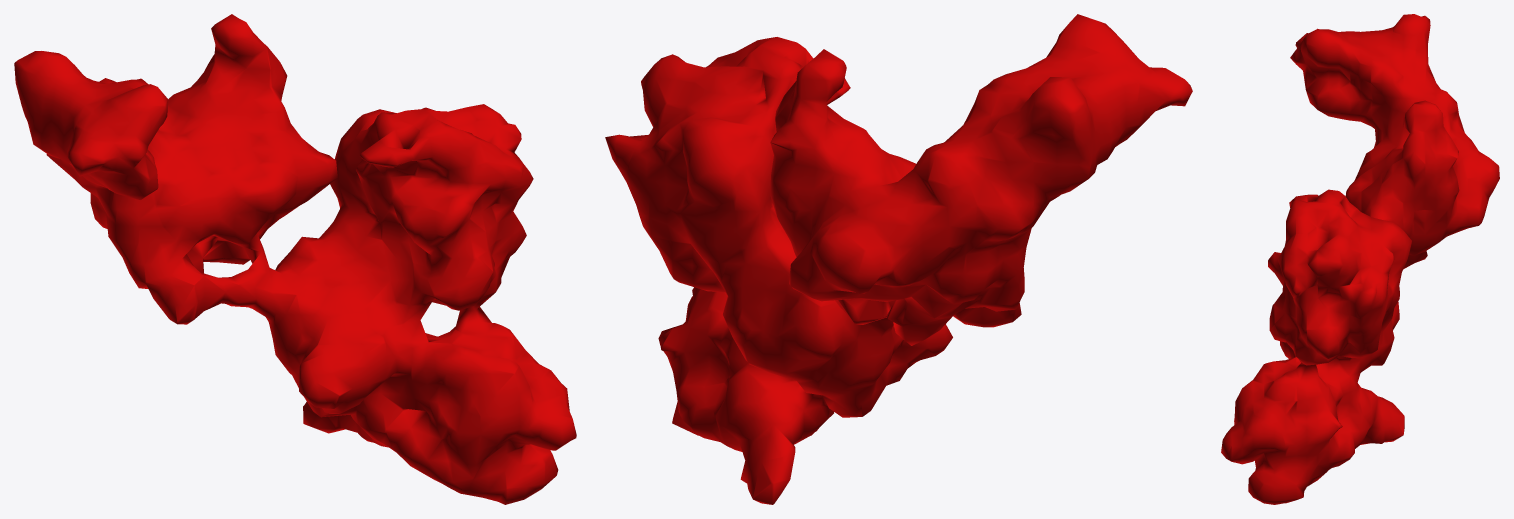
File: CoarseMS_1R6B.dae
3 renders of one model, left to right at view 1: azimuth 30°, elevation 25°; view 2: azimuth 150°, elevation 25°; view 3: azimuth 270°, elevation 25°, orthographic. The views are drawn at different scales.
Parts seen in each view (by area): view 1: CoarseMS_1R6B_Mesh; view 2: CoarseMS_1R6B_Mesh; view 3: CoarseMS_1R6B_Mesh.
Part boxes in pixels (x1,y1,x2,y2): CoarseMS_1R6B_Mesh: (14,14,576,504); CoarseMS_1R6B_Mesh: (605,14,1192,504); CoarseMS_1R6B_Mesh: (1221,14,1499,504).
Size of the model in its own units: 102 by 70.83 by 97.52.
